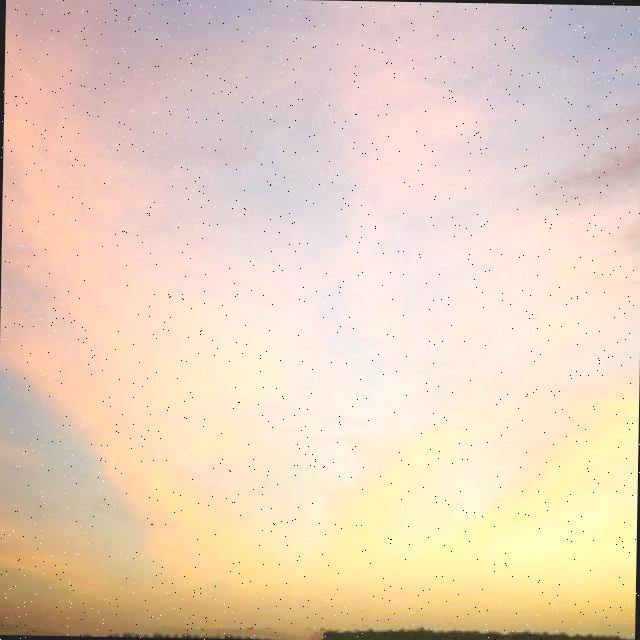Cs: (1, 49, 640, 555)
